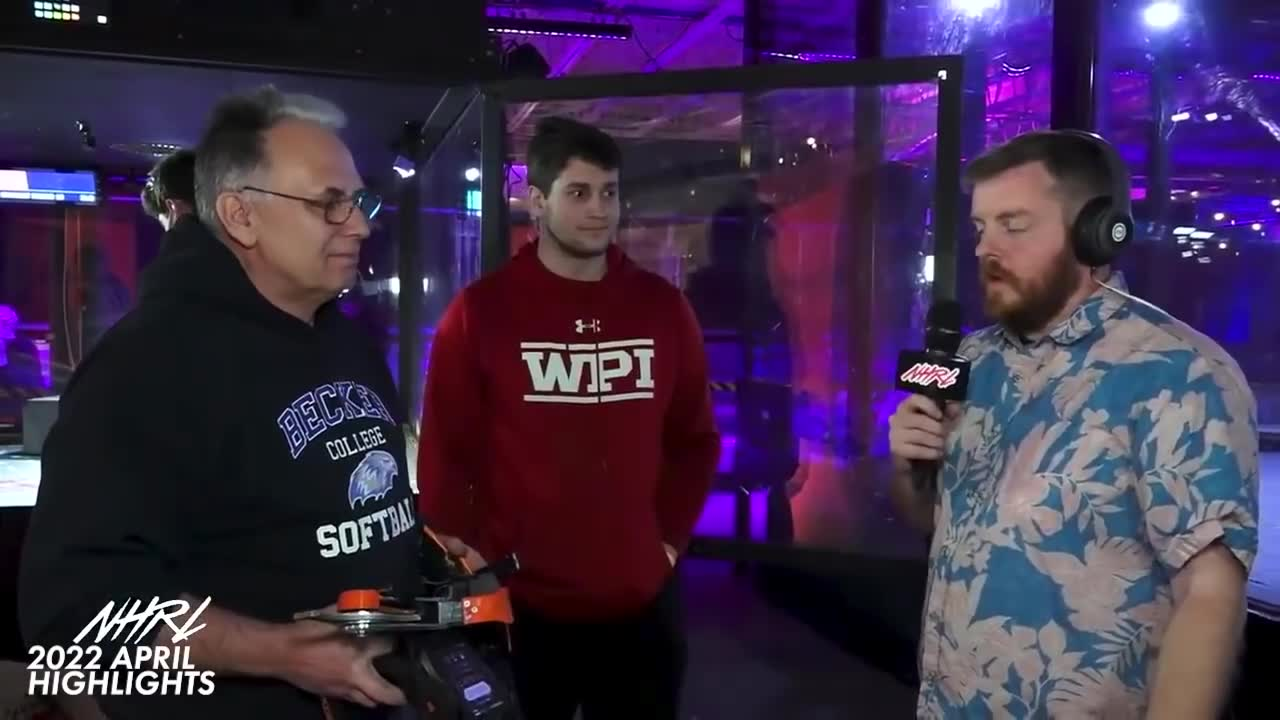combatbot: (293, 577, 512, 637)
